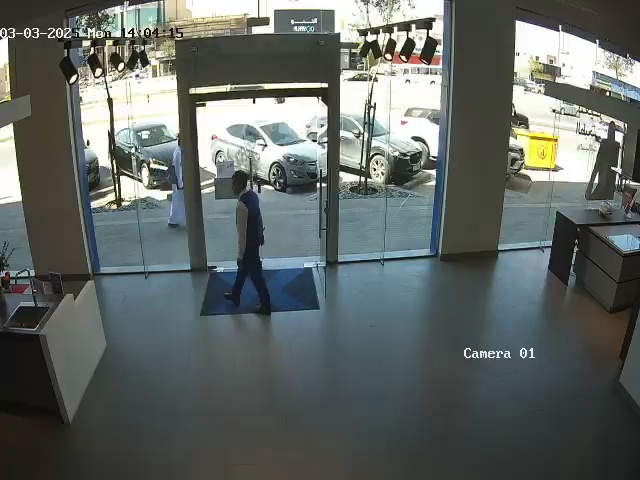employee: (223, 170, 272, 316)
male: (167, 134, 187, 228)
